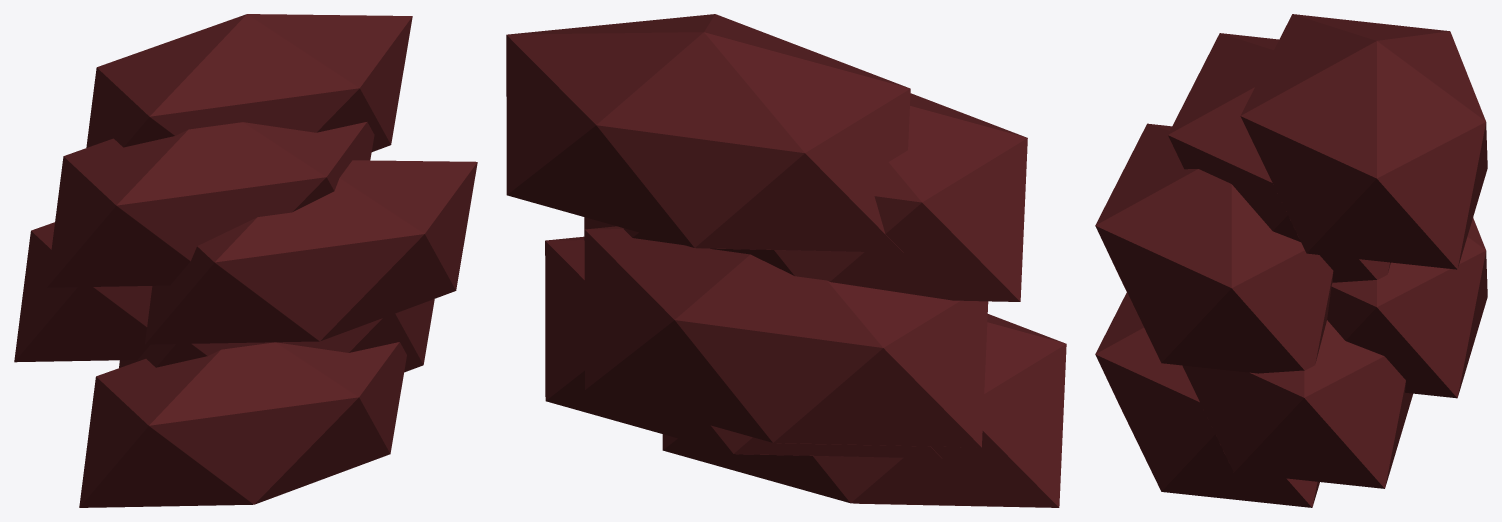
File: w3d_item_dried_berries_l.glb
3 views of the same model, side by side, from view 1: azimuth 30°, elevation 25°; view 2: azimuth 150°, elevation 25°; view 3: azimuth 270°, elevation 25° (orthographic). The views are drawn at different scales.
Visible parts, largest first — view 1: item_026_dried_berries_l; view 2: item_026_dried_berries_l; view 3: item_026_dried_berries_l.
Part boxes in pixels (bbox=[...]): item_026_dried_berries_l: bbox=[14, 14, 477, 507]; item_026_dried_berries_l: bbox=[506, 14, 1066, 507]; item_026_dried_berries_l: bbox=[1095, 14, 1487, 507].
Size of the model in its own units: 0.4248 by 0.4348 by 0.3245.
